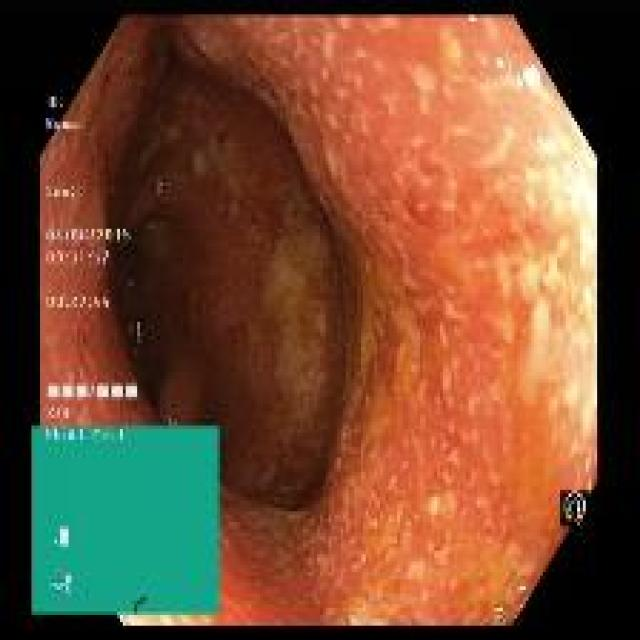ulcerative-colitis: (40, 16, 598, 623)
